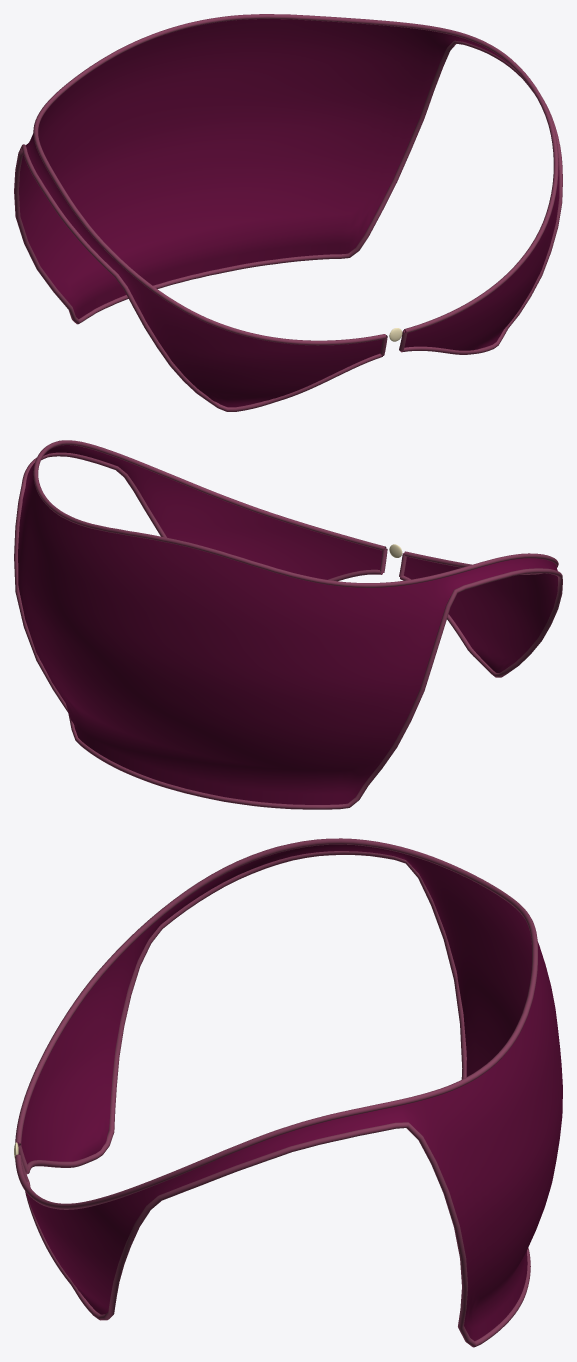
File: plum-cape.glb
The picture shows the model from 3 angles, top to bottom: view 1: azimuth 30°, elevation 25°; view 2: azimuth 150°, elevation 25°; view 3: azimuth 270°, elevation 25°; orthographic projection. The views are drawn at different scales.
Visible parts, largest first — view 1: plum_cloth, plum_hem, plum_back_edge; view 2: plum_cloth, plum_hem, plum_back_edge; view 3: plum_cloth, plum_hem, plum_back_edge.
Boxes of the visible parts, <box> form: plum_cloth: <box>19,19,559,407</box>; plum_hem: <box>14,40,562,411</box>; plum_back_edge: <box>33,14,558,345</box>; plum_cloth: <box>18,445,557,804</box>; plum_hem: <box>14,452,562,809</box>; plum_back_edge: <box>33,440,558,587</box>; plum_cloth: <box>18,844,562,1341</box>; plum_hem: <box>25,851,530,1347</box>; plum_back_edge: <box>15,838,537,1209</box>.
Size of the model in its own units: 2.03 by 1.02 by 1.6.
